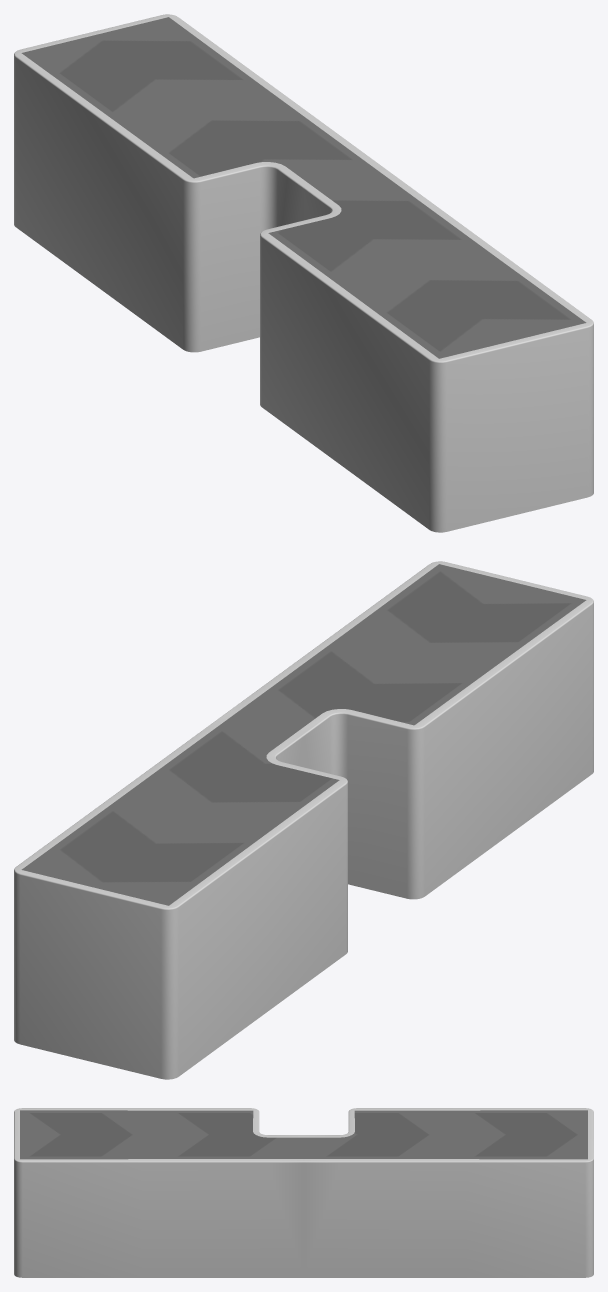
Rendered from Platform_Left2.fbx.
3 views of the same model, one above another, from view 1: azimuth 30°, elevation 25°; view 2: azimuth 150°, elevation 25°; view 3: azimuth 270°, elevation 25° (orthographic). The views are drawn at different scales.
Parts seen in each view (by area): view 1: Platform_Left2; view 2: Platform_Left2; view 3: Platform_Left2.
Part boxes in pixels (bbox=[...]): Platform_Left2: bbox=[14, 14, 593, 532]; Platform_Left2: bbox=[14, 561, 593, 1079]; Platform_Left2: bbox=[14, 1108, 593, 1277].
Bounding box in the file's own units: 671 × 671 × 3040.
2 materials, 1 textured.
